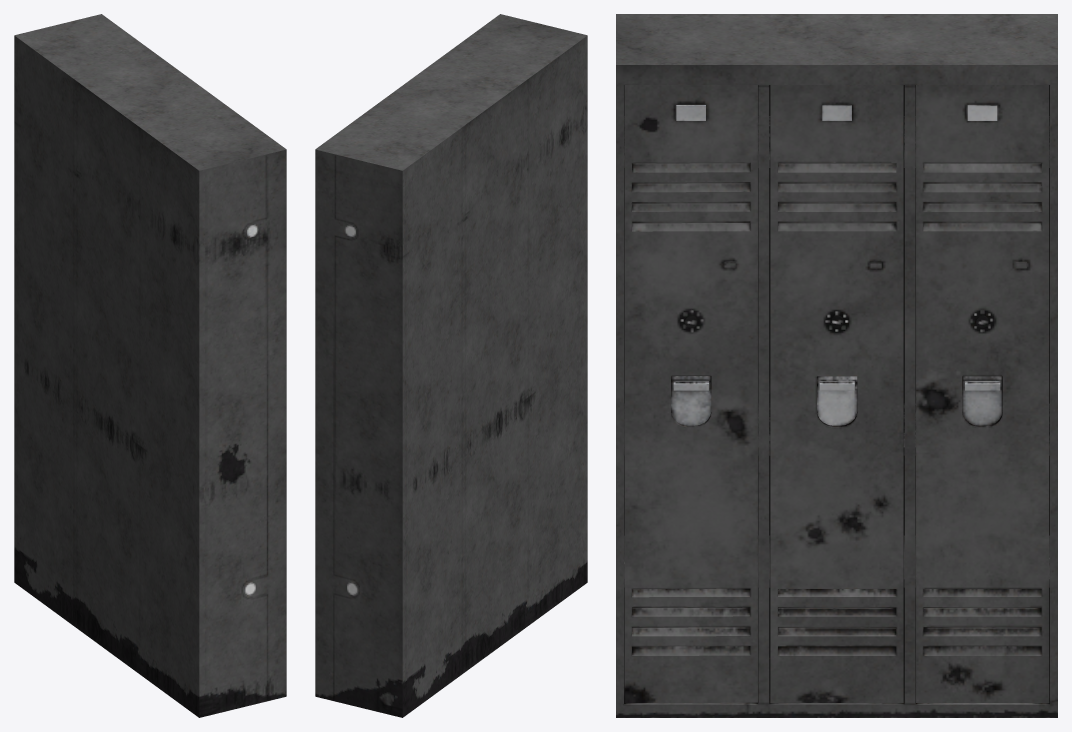
Rendered from shavka.fbx.
The picture shows the model from 3 angles, left to right: view 1: azimuth 30°, elevation 25°; view 2: azimuth 150°, elevation 25°; view 3: azimuth 270°, elevation 25°; orthographic projection. The views are drawn at different scales.
Visible parts, largest first — view 1: szafa.001; view 2: szafa.001; view 3: Cube_003.001, Cube_002.001, Cube_001.001, szafa.001.
Part boxes in pixels (x1=…): szafa.001: x1=14, y1=14, x2=286, y2=717; szafa.001: x1=315, y1=14, x2=587, y2=717; Cube_003.001: x1=916, y1=85, x2=1049, y2=702; Cube_002.001: x1=770, y1=85, x2=903, y2=702; Cube_001.001: x1=624, y1=85, x2=757, y2=702; szafa.001: x1=616, y1=14, x2=1057, y2=717.
Size of the model in its own units: 38.09 by 226 by 139.
